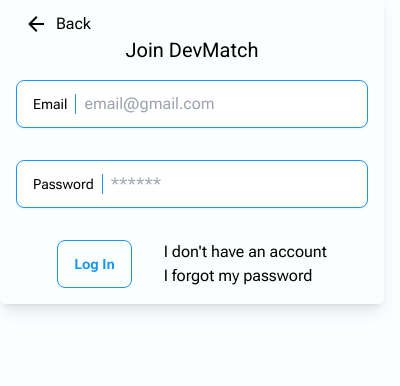
Test: Login Form › should show an error message when credentials are invalid
Type "invalid@email.com" into the field with placeholder "email@gmail.com". click: (218, 104)
box: [84,92,351,116]
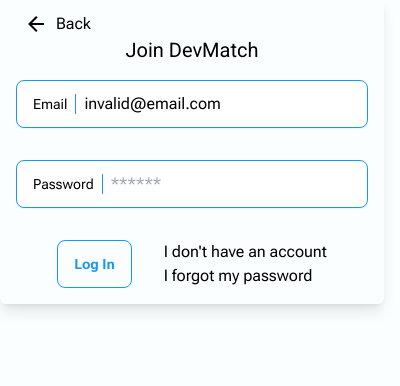
Type "invalidpassword" into the password field with placeholder "******". click: (231, 184)
box: [111,172,351,196]
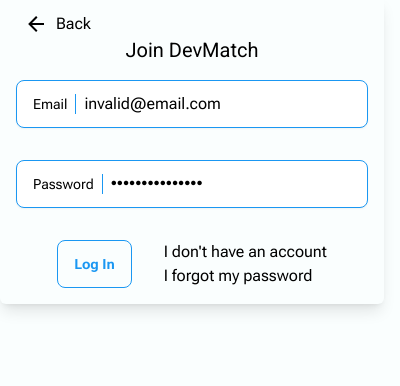
Click the button "Log In". click: (94, 264)
box: [57,240,132,288]
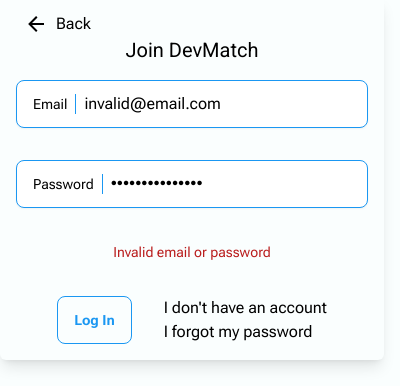
Check: the text "Invalid email or password" is shown, box [113,244,271,260]
